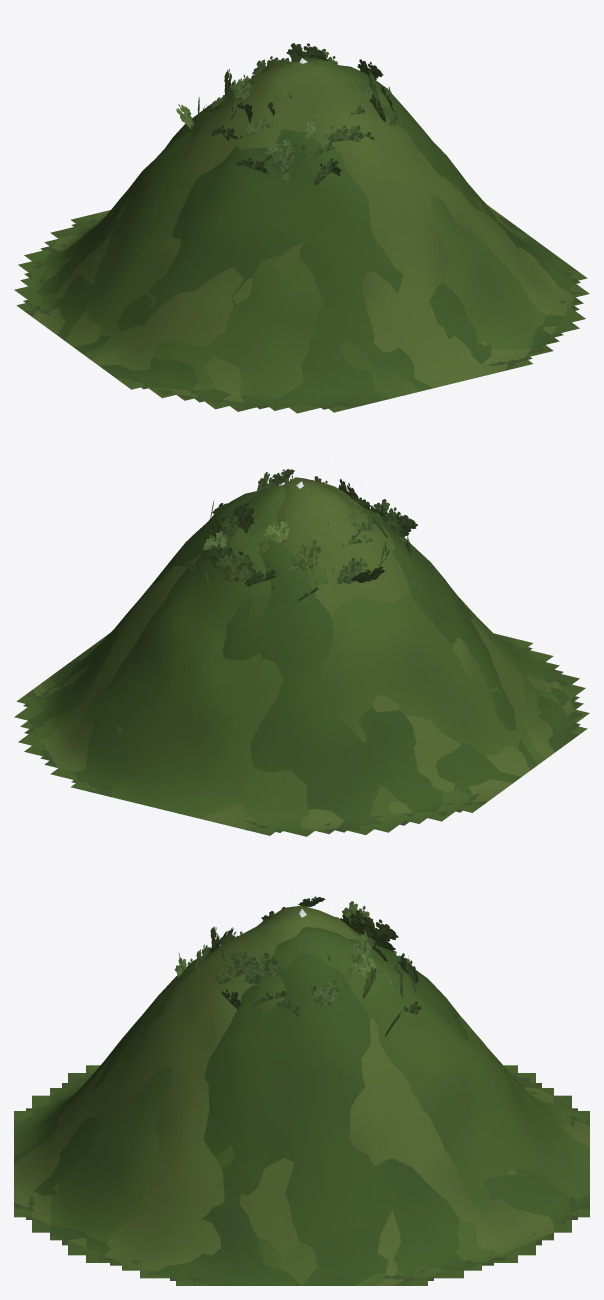
The model's file is scenery.glb.
The picture shows the model from 3 angles, top to bottom: view 1: azimuth 30°, elevation 25°; view 2: azimuth 150°, elevation 25°; view 3: azimuth 270°, elevation 25°; orthographic projection. The views are drawn at different scales.
Visible parts, largest first — view 1: hill_2, hill_1, hill_0, tree_2, peak_0, tree_1, tree_0; view 2: hill_0, hill_1, hill_2, tree_2, tree_1, peak_0; view 3: hill_1, hill_2, hill_0, tree_2, peak_0, tree_1, tree_0.
Part boxes in pixels (bbox=[...]): hill_2: bbox=[32, 62, 575, 402]; hill_1: bbox=[36, 65, 572, 407]; hill_0: bbox=[14, 57, 589, 413]; tree_2: bbox=[197, 43, 391, 185]; peak_0: bbox=[23, 58, 583, 410]; tree_1: bbox=[176, 48, 386, 161]; tree_0: bbox=[209, 63, 397, 173]; hill_0: bbox=[14, 485, 589, 836]; hill_1: bbox=[28, 490, 573, 828]; hill_2: bbox=[33, 477, 575, 830]; tree_2: bbox=[185, 469, 417, 594]; tree_1: bbox=[209, 475, 400, 603]; peak_0: bbox=[23, 481, 583, 833]; hill_1: bbox=[14, 943, 589, 1285]; hill_2: bbox=[14, 905, 589, 1285]; hill_0: bbox=[14, 927, 589, 1285]; tree_2: bbox=[174, 896, 421, 1036]; peak_0: bbox=[14, 909, 589, 1285]; tree_1: bbox=[214, 901, 416, 999]; tree_0: bbox=[213, 931, 395, 1009].
Size of the model in its own units: 2 by 1.18 by 2.
Materials: 13 (1 with a texture image).
